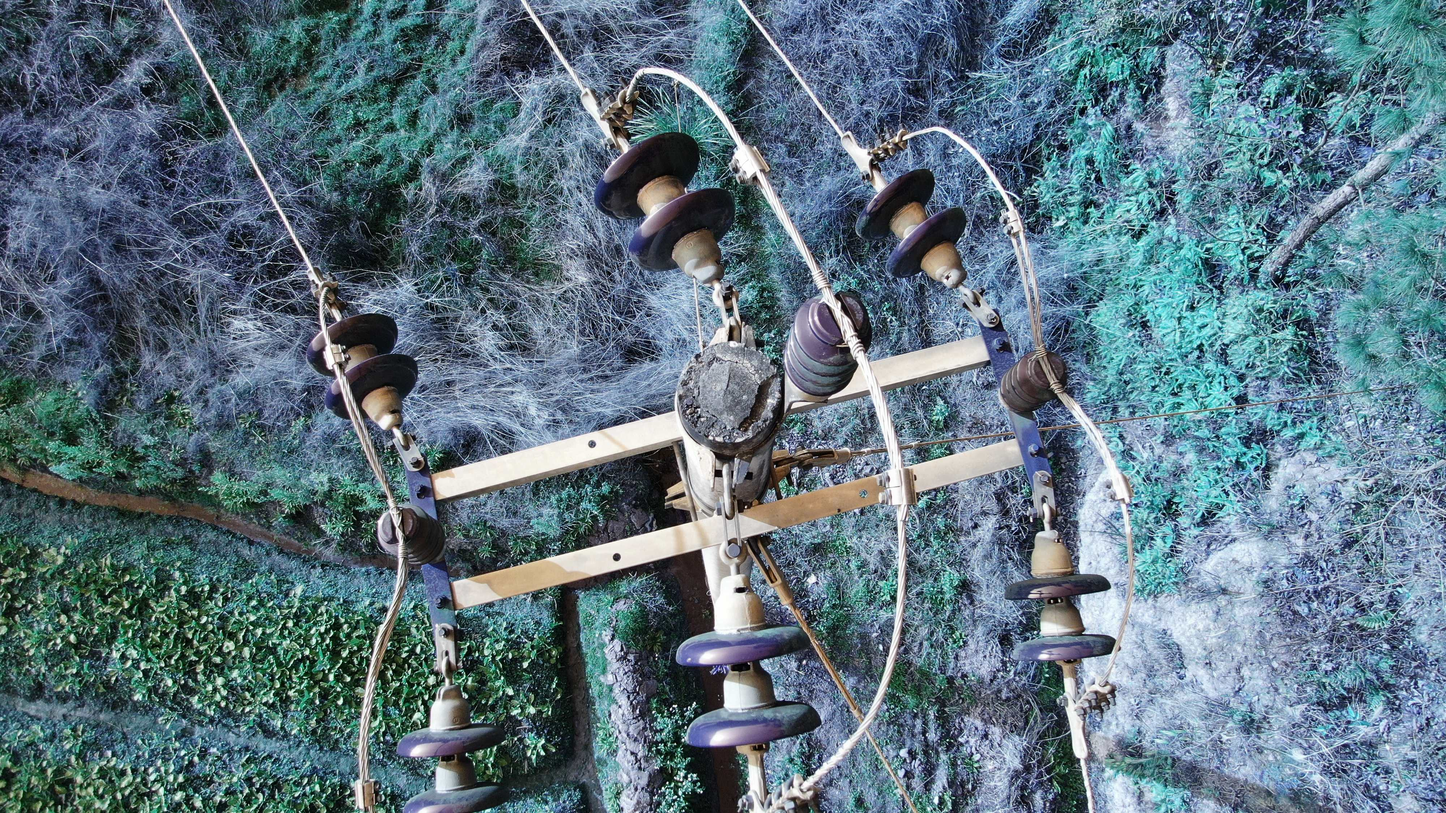severe_soiling_no_discharge_whole: (671, 567, 828, 758), (581, 122, 743, 288), (997, 527, 1124, 671), (393, 678, 514, 812), (850, 162, 975, 291), (301, 308, 423, 432), (779, 287, 874, 404), (371, 494, 452, 568), (994, 347, 1069, 419)
